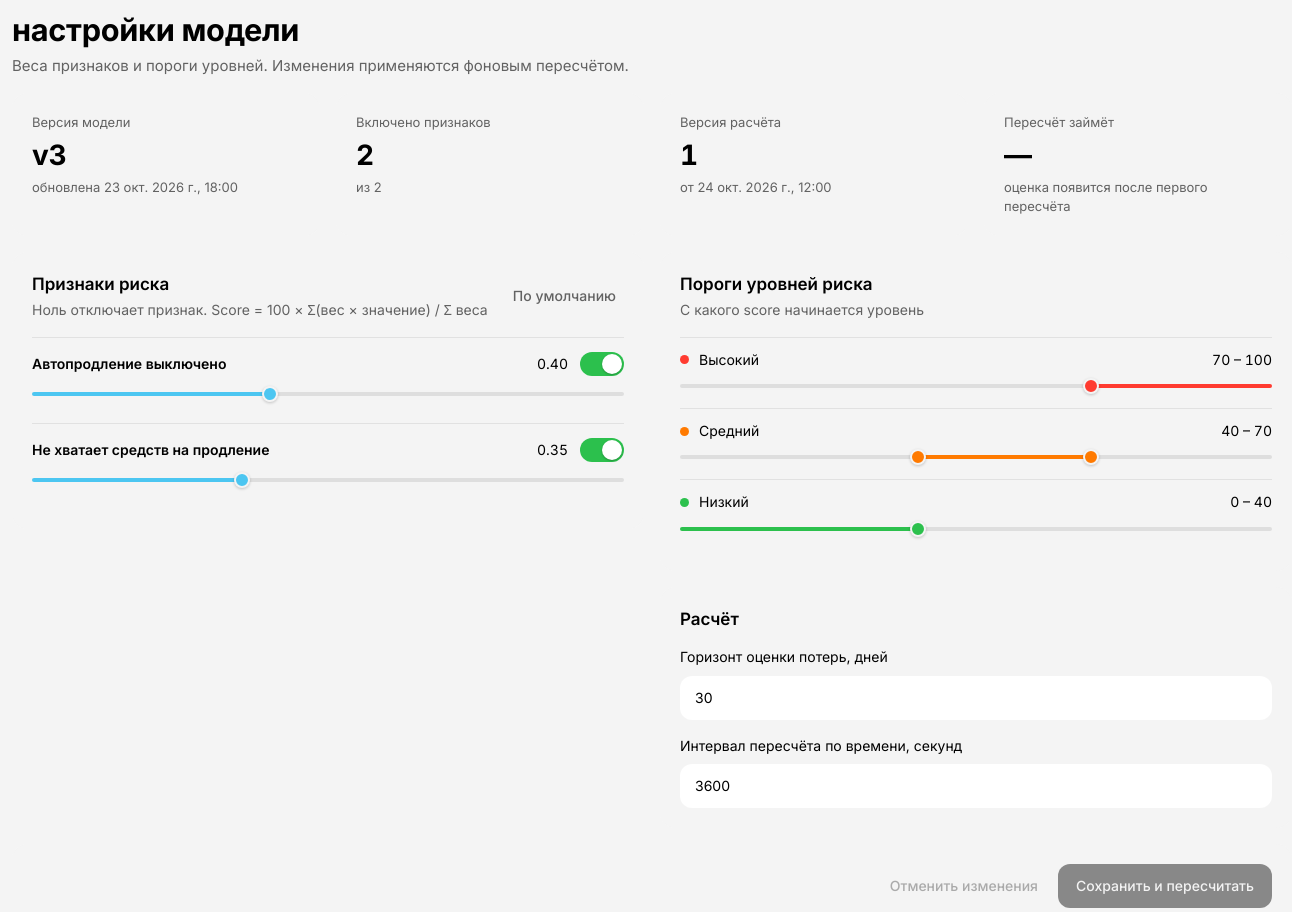
ModelPage › cancel restores the published settings
The image size is (1292, 912).
Replace the text in the number field labelled "Горизонт оценки потерь, дней" with "60": (976, 698) [680,676,1272,720]
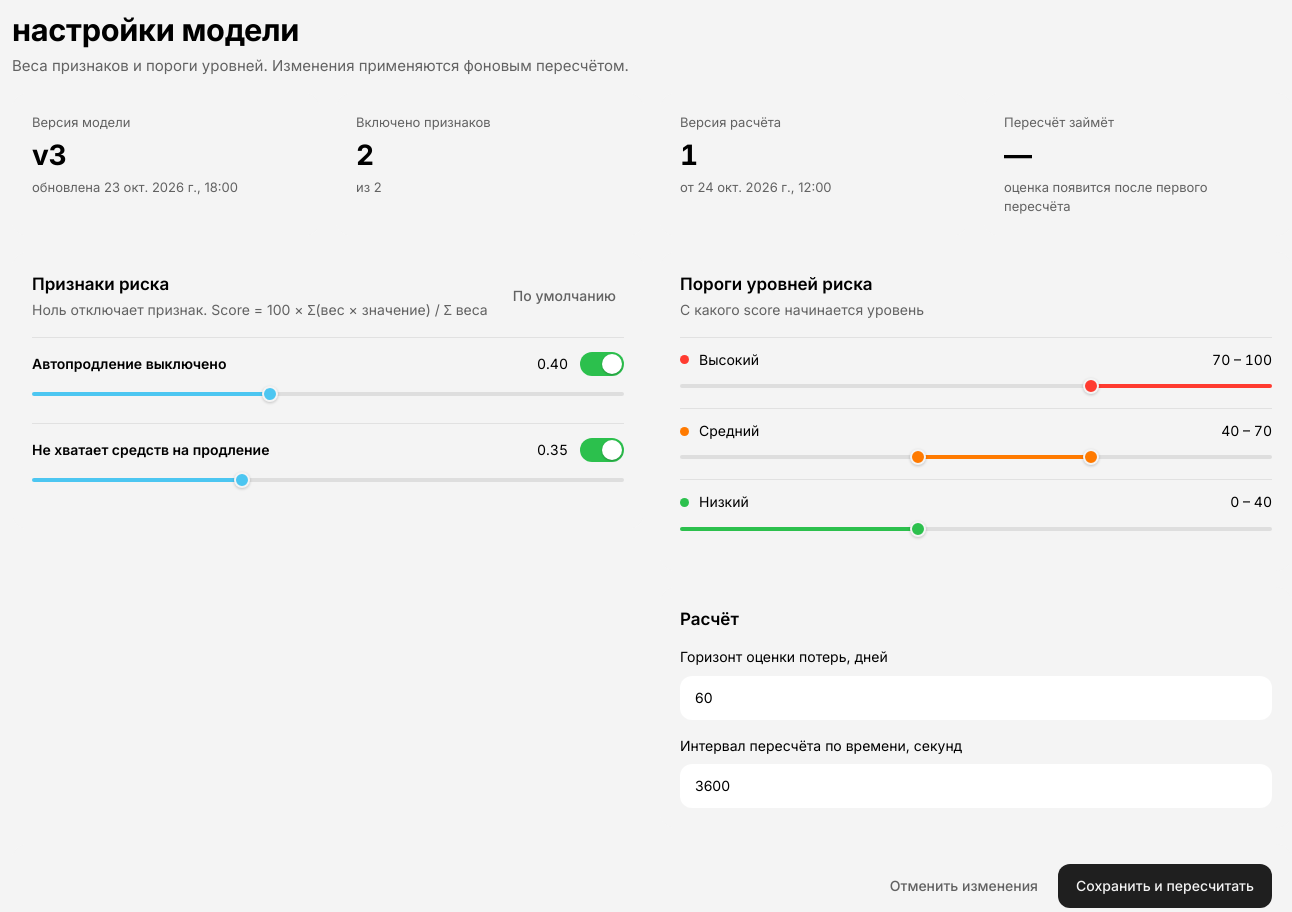
Click the button "Отменить изменения": (964, 886) [882,864,1046,908]
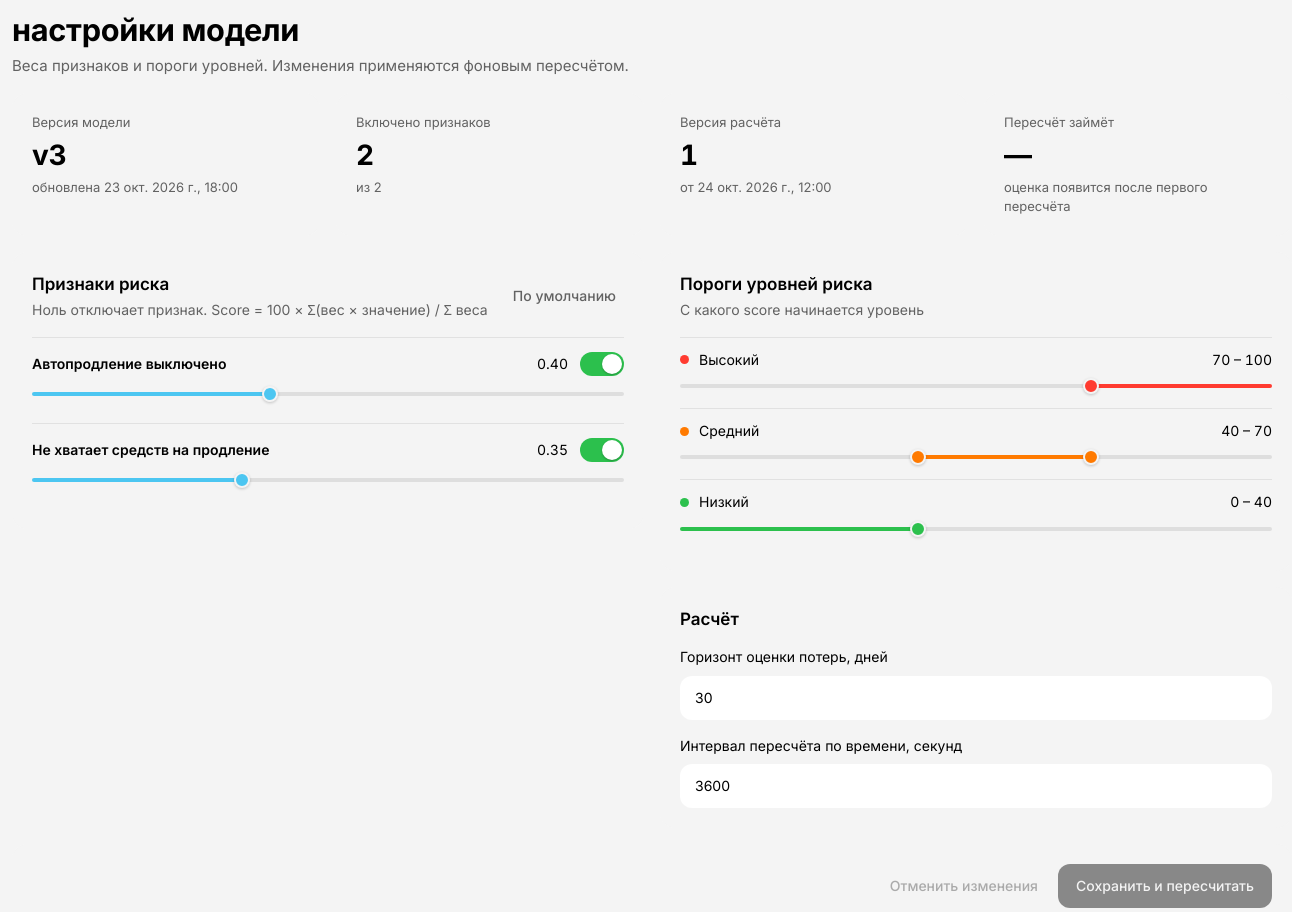
expect the number field showing "30" is shown: met, box [680,676,1272,720]
